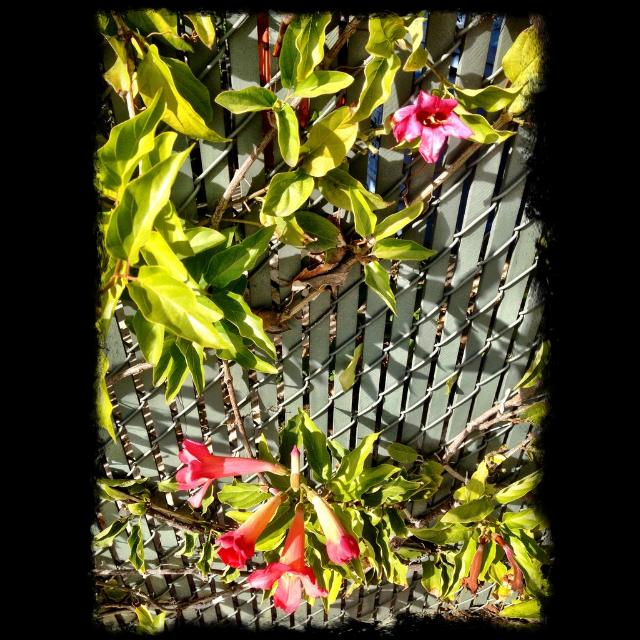Flower: (244, 499, 330, 611), (392, 77, 484, 157), (173, 441, 279, 509), (212, 488, 286, 568), (305, 486, 359, 566), (496, 535, 526, 593), (458, 537, 484, 597)
